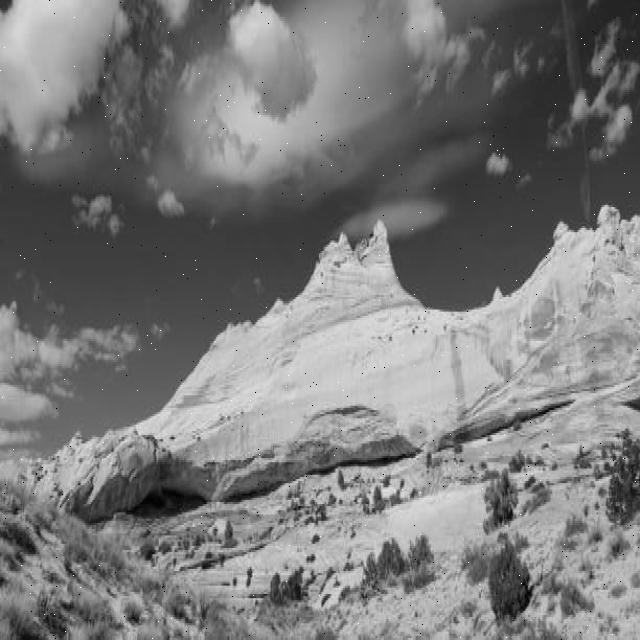Sedimentary: (73, 180, 638, 489)
